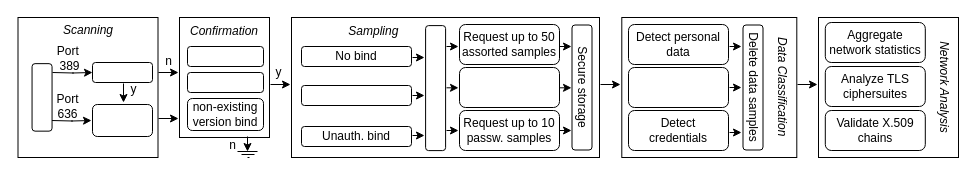
The diagram is 976 pixels wide and 183 high, and some of its shapes have lost their labels. The shapes that lost their labels are listed below. From the top down, each one's centre as x and y in pixels, then its label:
[122,72]: StartTLS
[225,56]: LDAPv3 bind
[41,97]: ZMap
[225,82]: LDAPv2 bind
[356,95]: Anon. simple bind
[435,88]: Fetch LDAP config.
[509,87]: Request up to 50 "admin" samples
[678,87]: Detect sensitive configurations
[122,120]: Collect TLS info.
